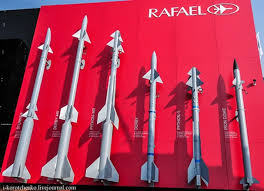ten_lua: (45, 17, 96, 180), (229, 50, 258, 188), (186, 63, 208, 187), (141, 46, 160, 187)
